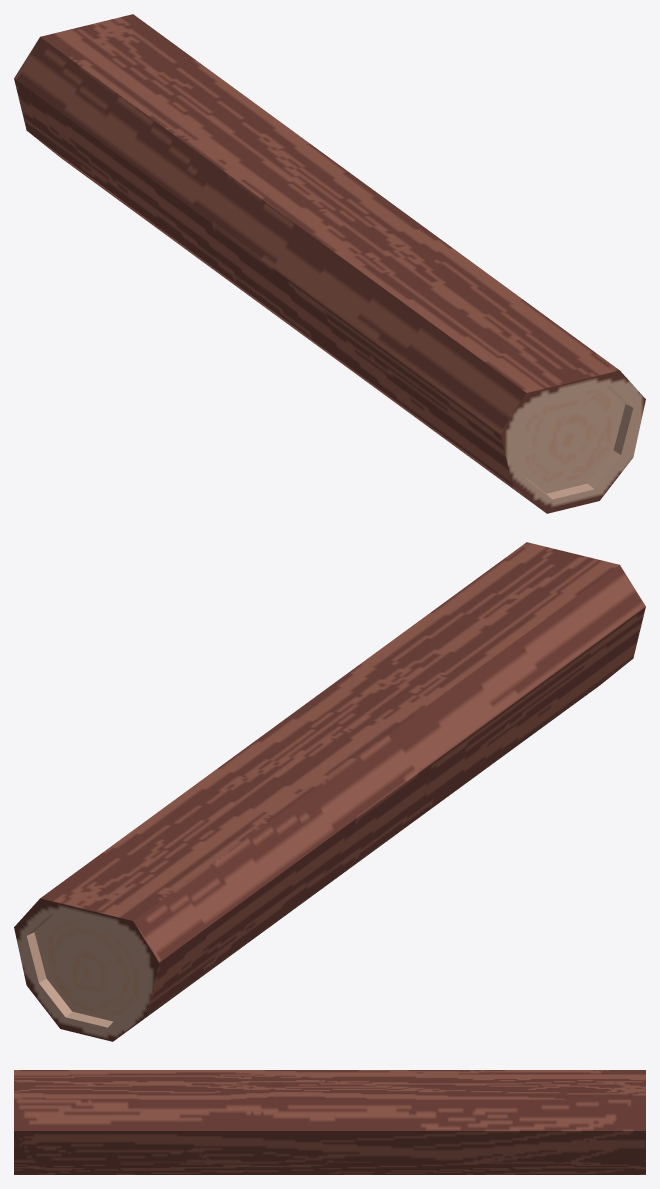
Rendered from log.fbx.
The picture shows the model from 3 angles, top to bottom: view 1: azimuth 30°, elevation 25°; view 2: azimuth 150°, elevation 25°; view 3: azimuth 270°, elevation 25°; orthographic projection. The views are drawn at different scales.
Visible parts, largest first — view 1: Cube; view 2: Cube; view 3: Cube.
Boxes of the visible parts, x1,y1,x2,y2 form: Cube: (14,14,645,513); Cube: (14,542,645,1041); Cube: (14,1070,645,1174).
Size of the model in its own units: 242 by 200 by 1403.
